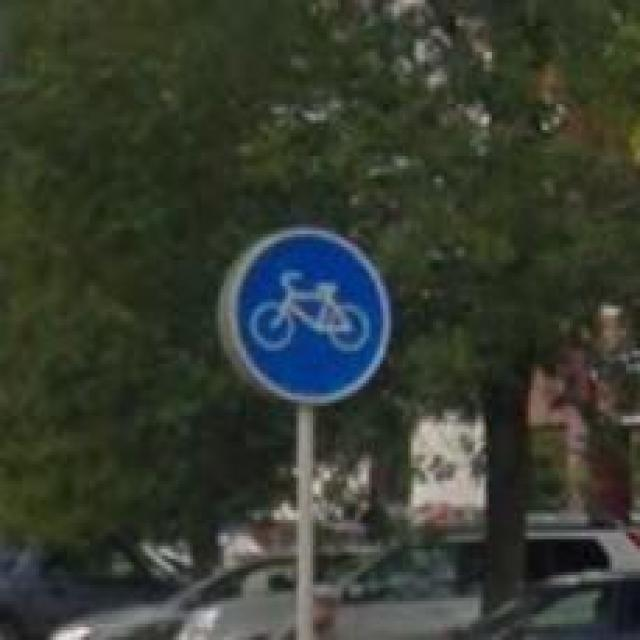traffic_sign: (229, 224, 391, 406)
